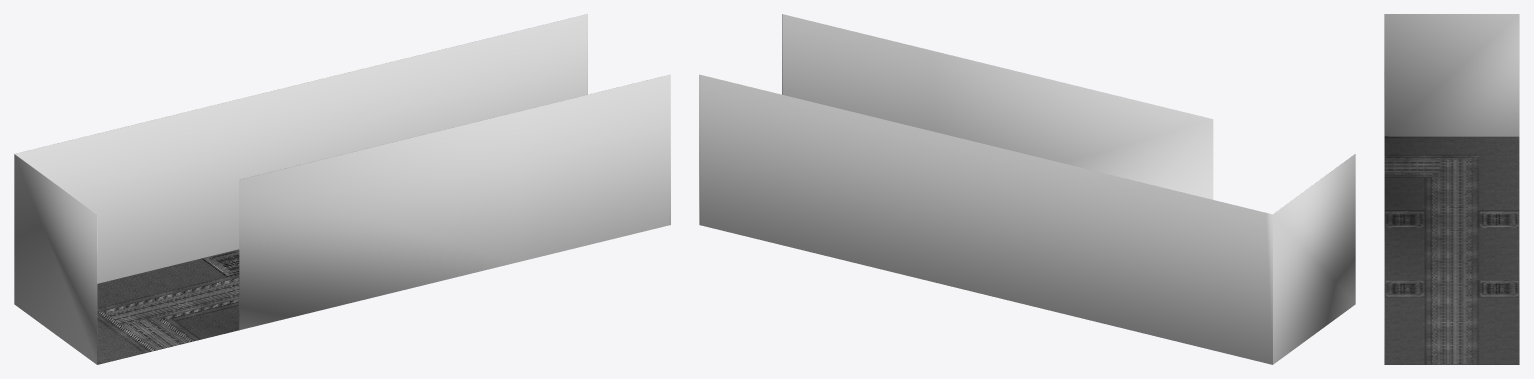
Rendered from corridor_c-2.fbx.
3 views of the same model, side by side, from view 1: azimuth 30°, elevation 25°; view 2: azimuth 150°, elevation 25°; view 3: azimuth 270°, elevation 25° (orthographic). The views are drawn at different scales.
Visible parts, largest first — view 1: corridor C-2; view 2: corridor C-2; view 3: corridor C-2.
Part boxes in pixels (box(x1,y1,x2,y2)): corridor C-2: box(14, 14, 670, 364); corridor C-2: box(699, 14, 1355, 364); corridor C-2: box(1384, 14, 1519, 364).
Size of the model in its own units: 1443 by 361 by 361.
